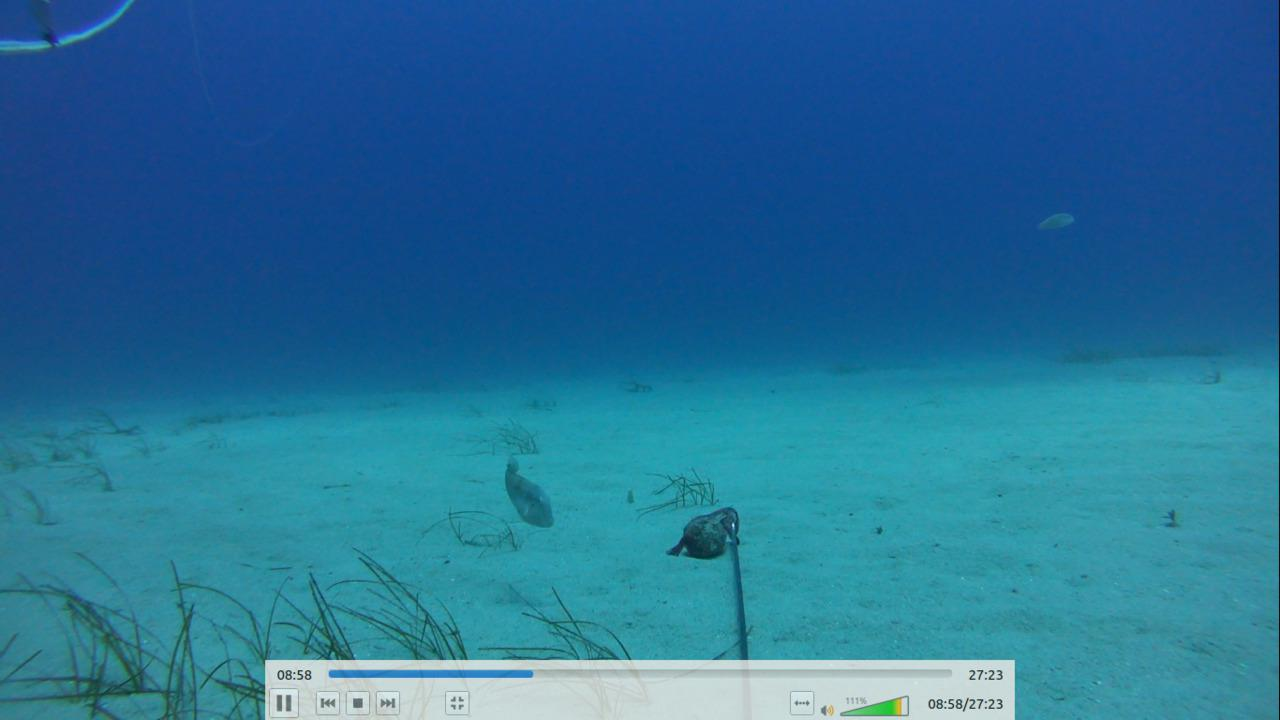raor: (495, 450, 560, 533), (1028, 205, 1081, 238)
